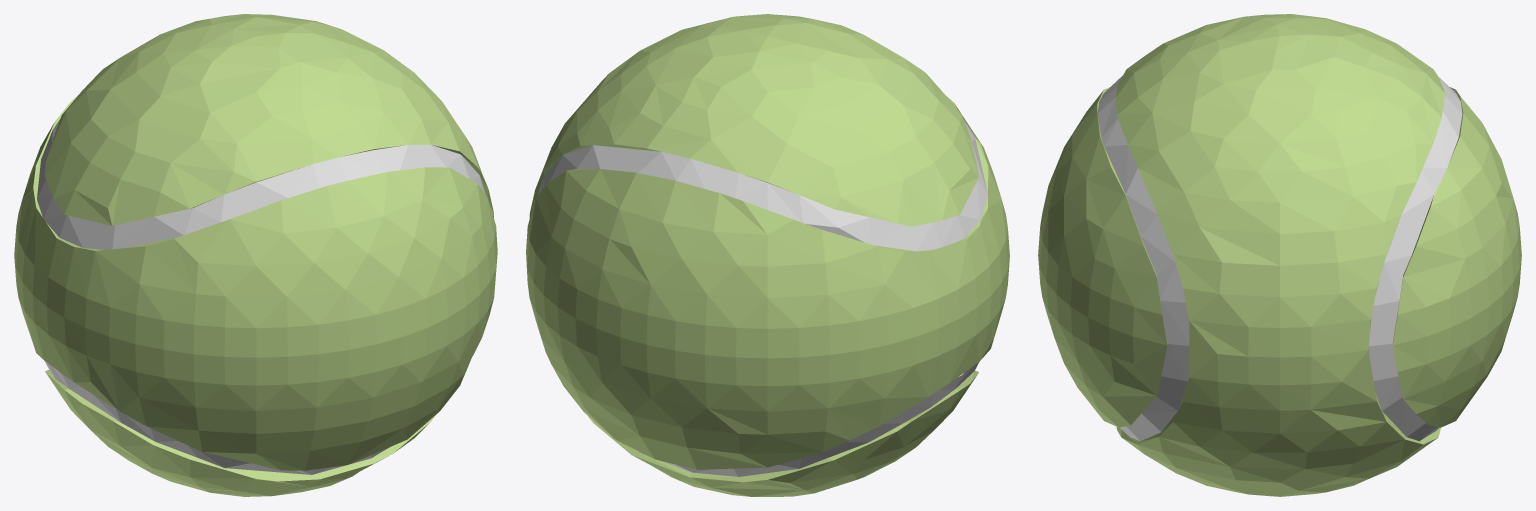
File: tennisBall.glb
3 views of the same model, side by side, from view 1: azimuth 30°, elevation 25°; view 2: azimuth 150°, elevation 25°; view 3: azimuth 270°, elevation 25° (orthographic).
Visible parts, largest first — view 1: Mesh_Mesh_head_geo001_lambert2SG001; view 2: Mesh_Mesh_head_geo001_lambert2SG001; view 3: Mesh_Mesh_head_geo001_lambert2SG001.
Part boxes in pixels (x1,y1,x2,y2): Mesh_Mesh_head_geo001_lambert2SG001: [14, 14, 497, 496]; Mesh_Mesh_head_geo001_lambert2SG001: [526, 14, 1009, 496]; Mesh_Mesh_head_geo001_lambert2SG001: [1038, 14, 1521, 496].
Bounding box in the file's own units: 35.5 × 35.35 × 35.5.
